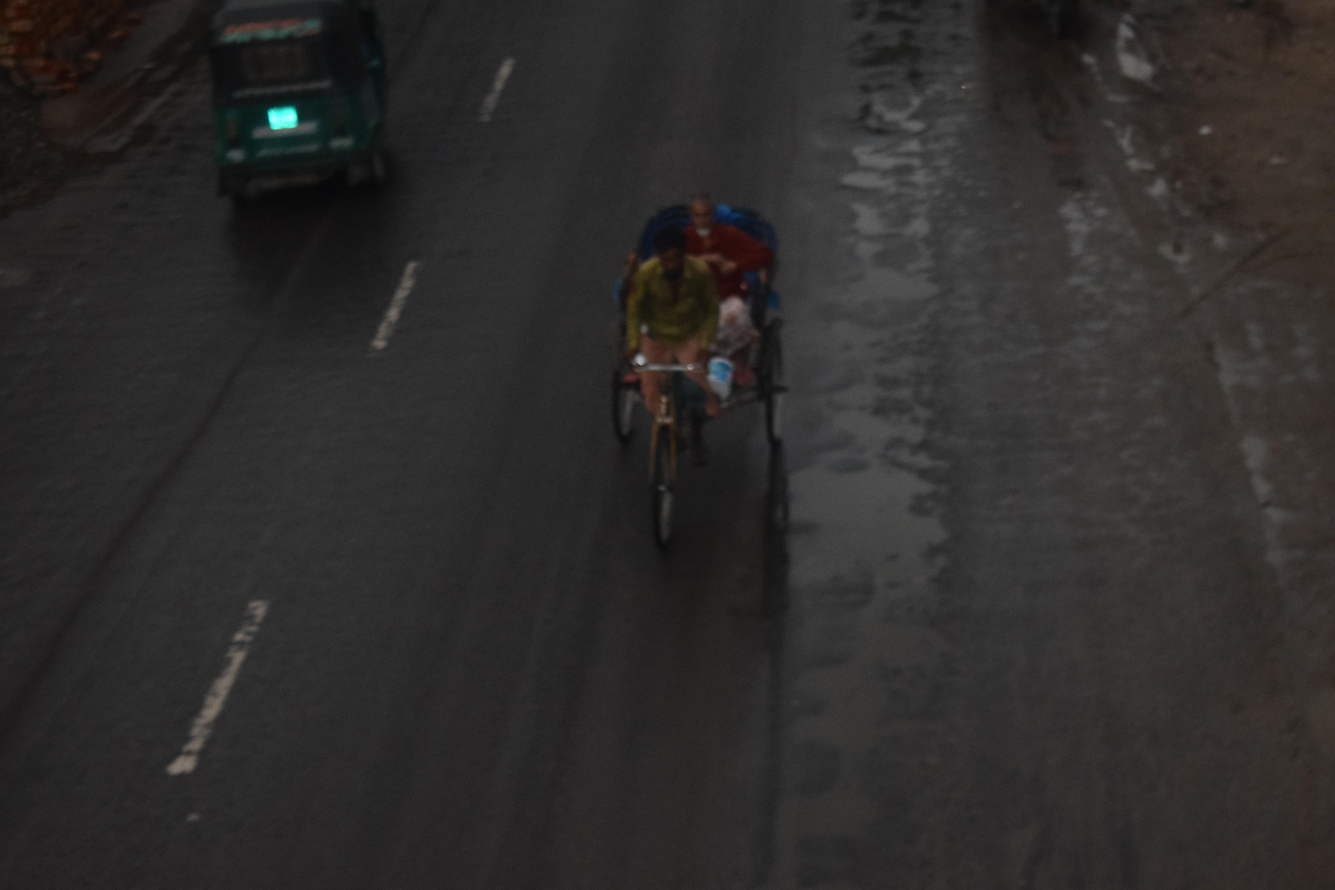Car: (523, 131, 848, 609)
